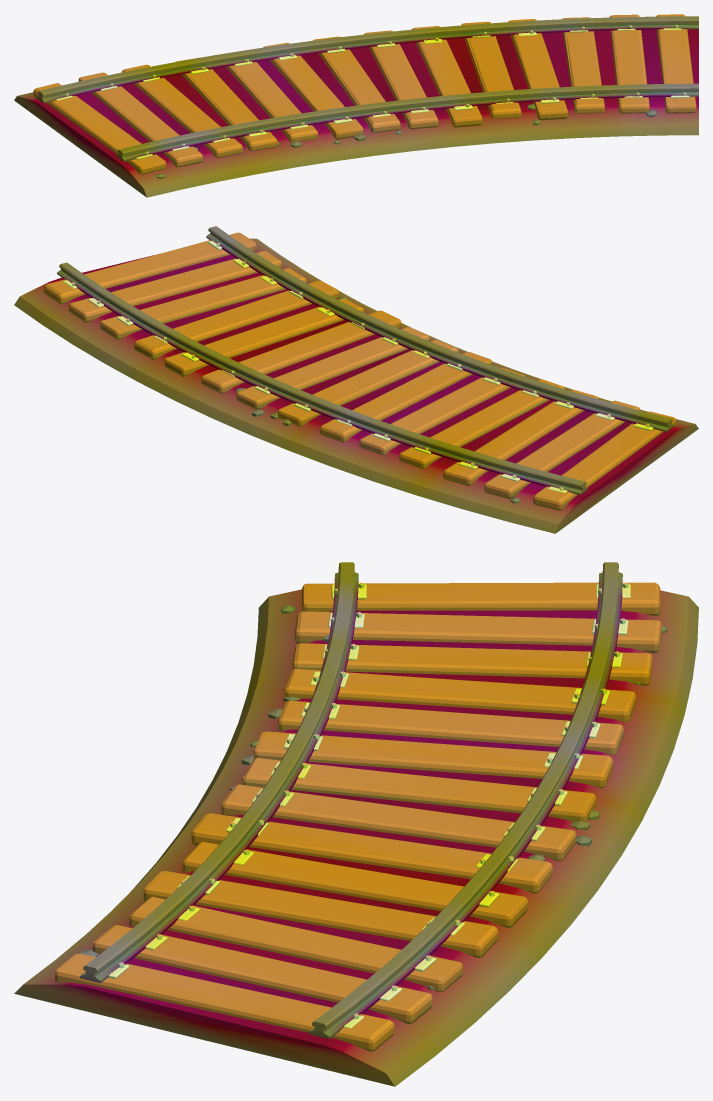
File: Track_Curve_R20_30_A.fbx
3 views of the same model, one above another, from view 1: azimuth 30°, elevation 25°; view 2: azimuth 150°, elevation 25°; view 3: azimuth 270°, elevation 25° (orthographic). The views are drawn at different scales.
Visible parts, largest first — view 1: Track_Curve_R20_30_A; view 2: Track_Curve_R20_30_A; view 3: Track_Curve_R20_30_A.
Part boxes in pixels (x1,y1,x2,y2): Track_Curve_R20_30_A: (14,14,698,197); Track_Curve_R20_30_A: (14,226,698,533); Track_Curve_R20_30_A: (14,562,698,1086).
Bounding box in the file's own units: 11.07 × 0.49 × 6.69.
